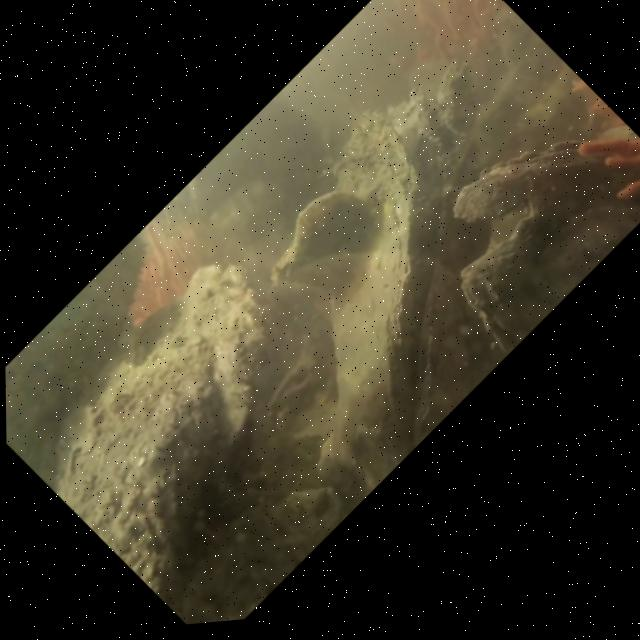Oyster-Closed: (51, 257, 273, 604), (449, 136, 640, 353)
Oyster-Open: (268, 50, 489, 500)
